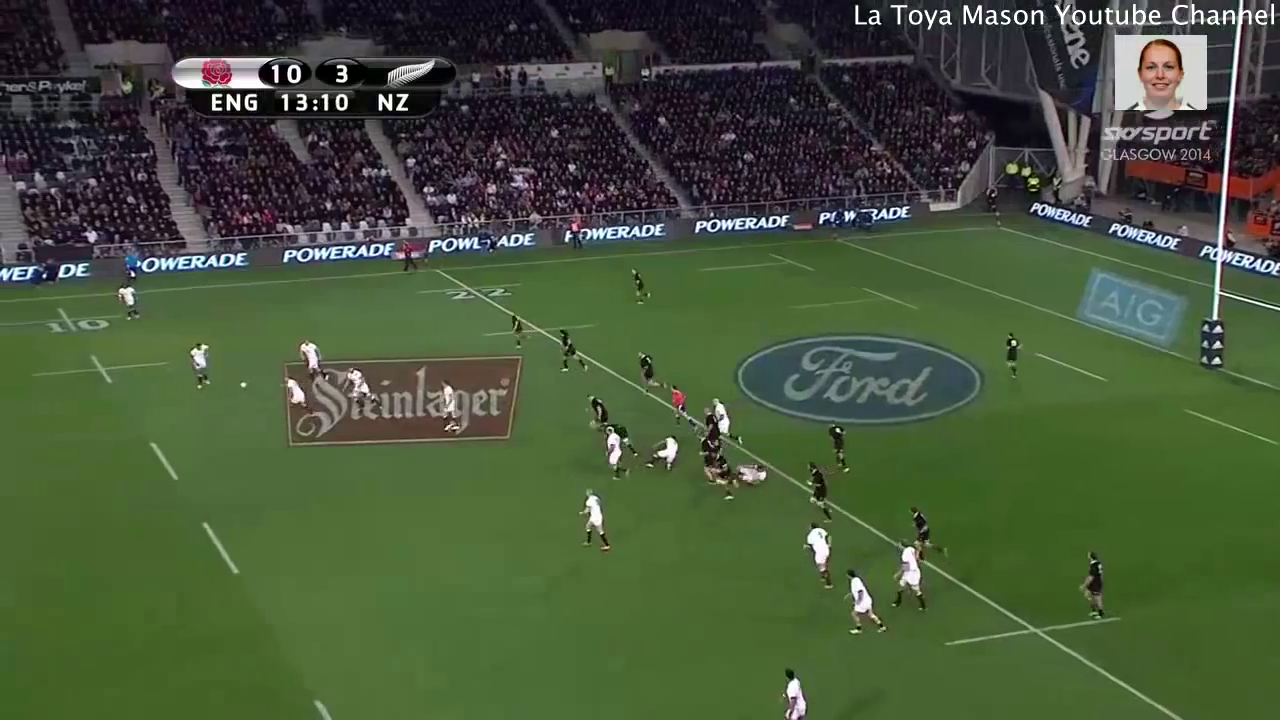10_metre: (1192, 166, 1280, 377), (27, 348, 169, 394), (1, 304, 126, 346)
ball: (237, 378, 250, 391)
player: (838, 564, 889, 639), (1071, 544, 1117, 626), (889, 535, 929, 616), (903, 503, 952, 564), (800, 518, 840, 592), (577, 487, 615, 553), (802, 459, 839, 526), (553, 324, 593, 381), (707, 394, 747, 448), (341, 364, 383, 415), (826, 416, 857, 481), (600, 423, 633, 481), (293, 335, 331, 385), (629, 346, 665, 398), (277, 372, 315, 420), (437, 378, 466, 440), (711, 447, 741, 503), (187, 338, 217, 393), (666, 382, 699, 432), (694, 428, 722, 483), (643, 432, 680, 472), (607, 420, 642, 459), (577, 394, 611, 432), (505, 308, 533, 353), (999, 329, 1022, 383), (113, 281, 143, 322), (626, 266, 655, 308), (395, 239, 421, 275), (732, 461, 770, 484)
